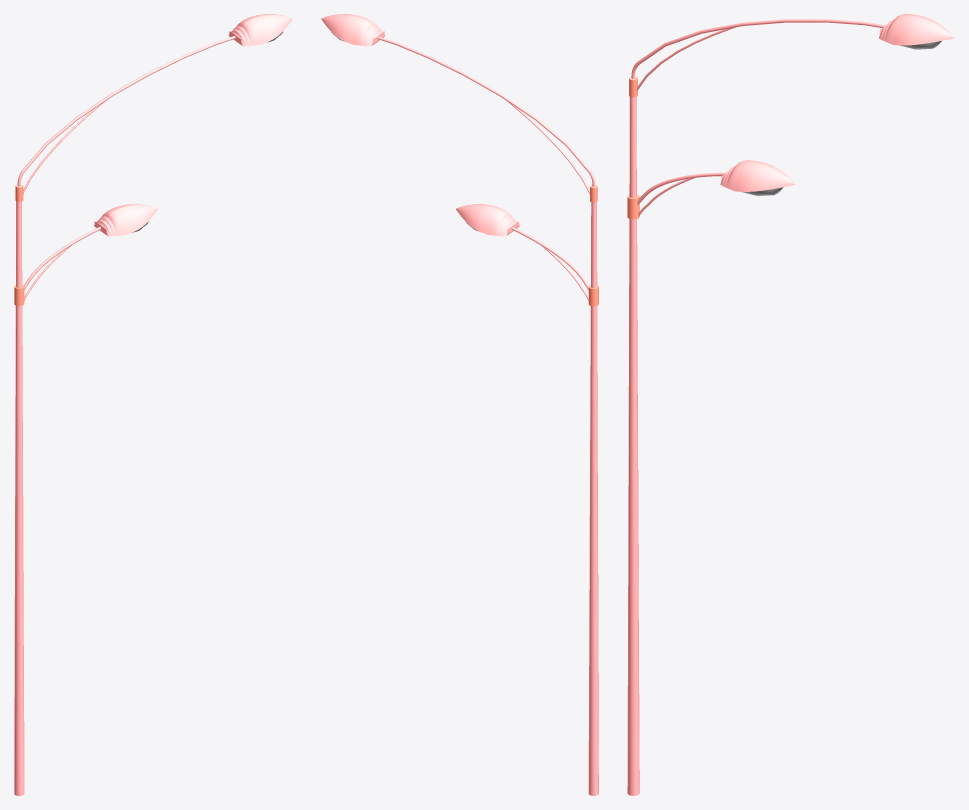
File: street-lamp.glb
3 renders of one model, left to right at view 1: azimuth 30°, elevation 25°; view 2: azimuth 150°, elevation 25°; view 3: azimuth 330°, elevation 25°, orthographic. The views are drawn at different scales.
Visible parts, largest first — view 1: Cylinder01, Loft02, Loft03, Line02; view 2: Cylinder01, Loft03, Loft02, Line02; view 3: Cylinder01, Loft03, Loft02, Line02.
Part boxes in pixels (bbox=[...]): Cylinder01: bbox=[14, 185, 24, 795]; Loft02: bbox=[94, 204, 157, 236]; Loft03: bbox=[228, 14, 292, 46]; Line02: bbox=[17, 36, 235, 186]; Cylinder01: bbox=[588, 185, 598, 795]; Loft03: bbox=[321, 14, 385, 46]; Loft02: bbox=[456, 204, 519, 236]; Line02: bbox=[377, 36, 595, 186]; Cylinder01: bbox=[627, 77, 639, 795]; Loft03: bbox=[879, 14, 953, 45]; Loft02: bbox=[720, 160, 795, 191]; Line02: bbox=[631, 19, 885, 78].
Bounding box in the file's own units: 4.28 × 10.58 × 0.5592.
